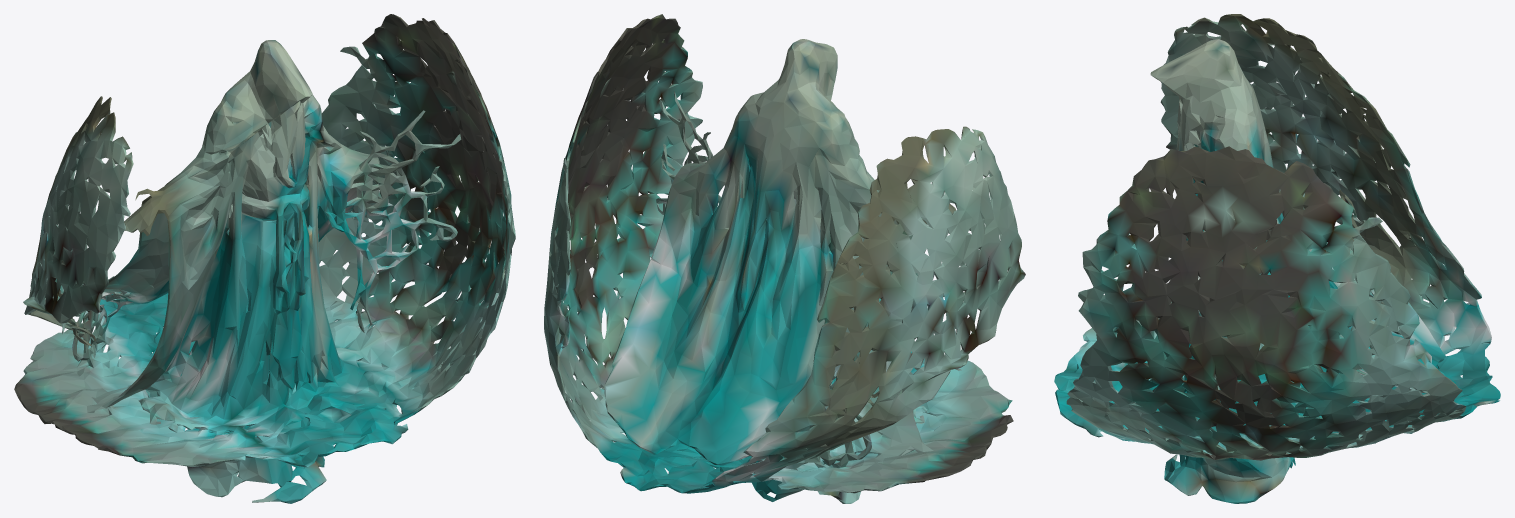
The model's file is fireElemental.glb.
The picture shows the model from 3 angles, left to right: view 1: azimuth 30°, elevation 25°; view 2: azimuth 150°, elevation 25°; view 3: azimuth 270°, elevation 25°; orthographic projection.
Parts seen in each view (by area): view 1: world; view 2: world; view 3: world.
Part boxes in pixels (x1,y1,x2,y2): world: [14, 14, 515, 503]; world: [544, 14, 1025, 503]; world: [1054, 14, 1500, 503].
Size of the model in its own units: 0.9953 by 1 by 0.9218.
